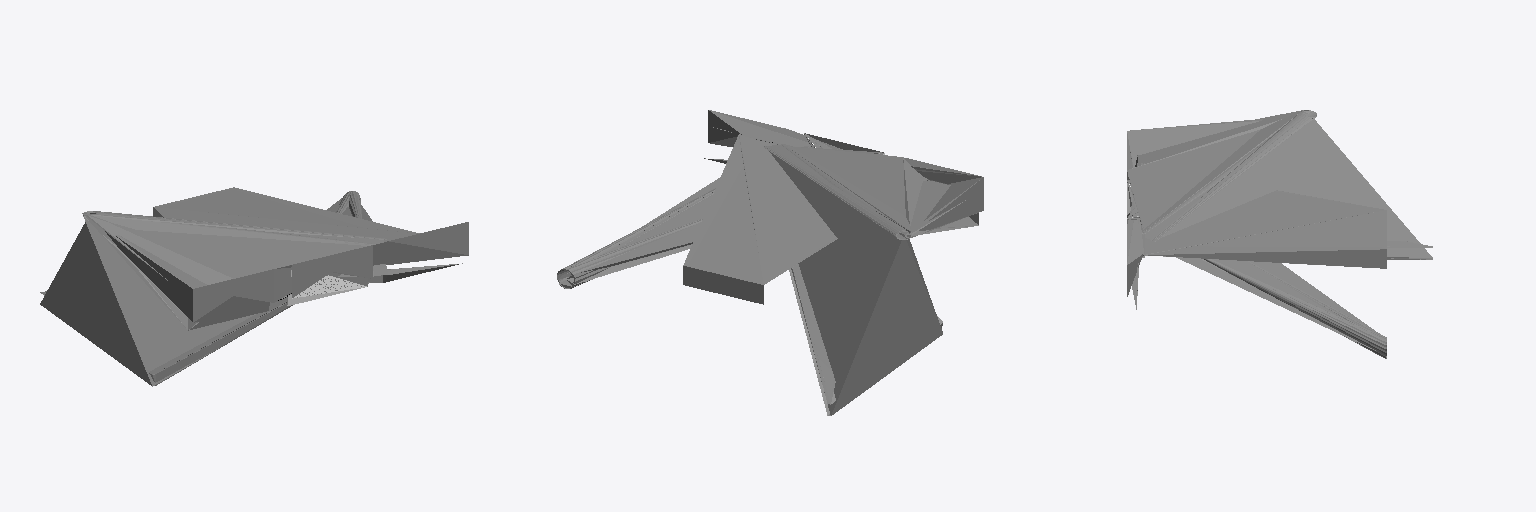
The model's file is Printer.obj.
3 renders of one model, left to right at view 1: azimuth 30°, elevation 25°; view 2: azimuth 150°, elevation 25°; view 3: azimuth 270°, elevation 25°, orthographic.
Parts seen in each view (by area): view 1: Text002, Box027, Box023; view 2: Text002, Box027; view 3: Text002.
Boxes of the visible parts, <box> form: Text002: <box>40,187,468,386</box>; Box027: <box>193,265,373,322</box>; Box023: <box>287,270,366,305</box>; Text002: <box>557,110,983,415</box>; Box027: <box>754,134,981,184</box>; Text002: <box>1127,110,1432,358</box>.
Bounding box in the file's own units: 29137 × 12412 × 24497.